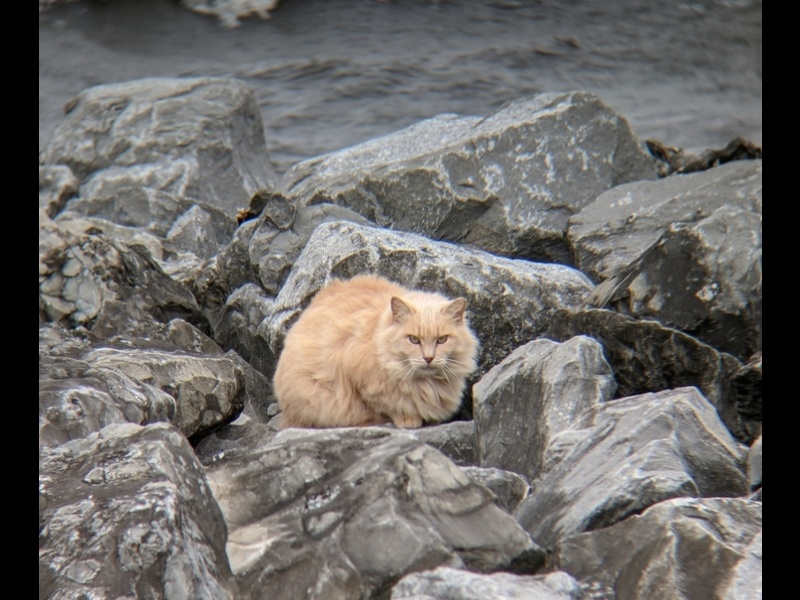cat: (268, 272, 483, 434)
